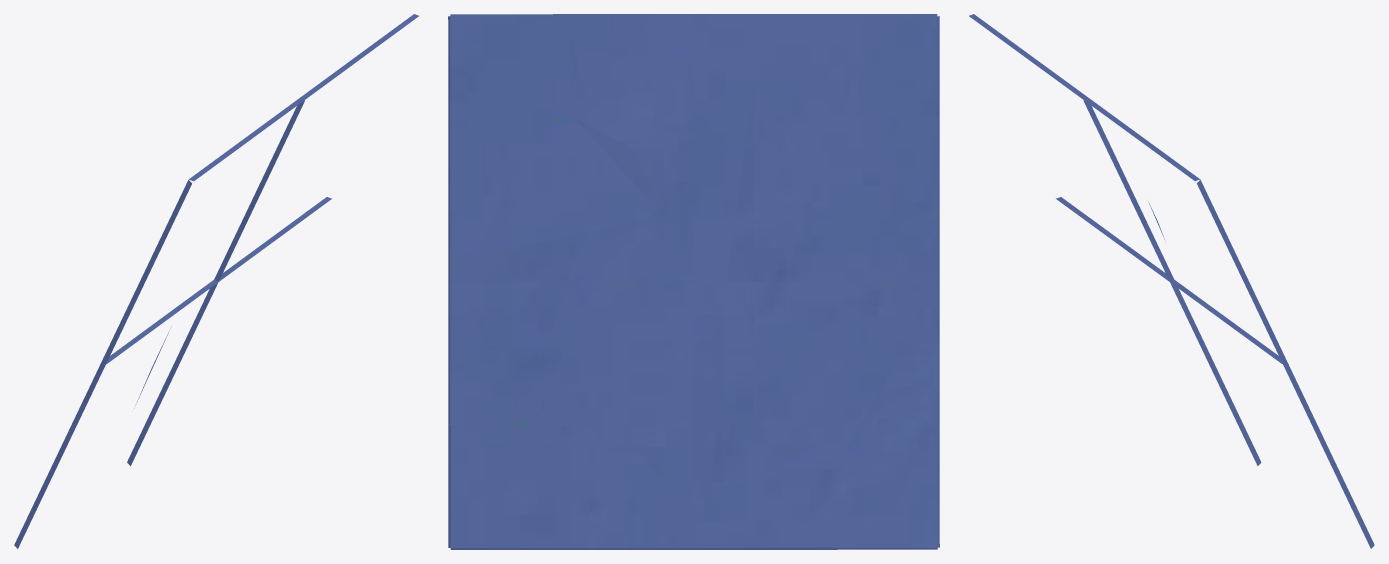
3 views of the same model, side by side, from view 1: azimuth 30°, elevation 25°; view 2: azimuth 150°, elevation 25°; view 3: azimuth 270°, elevation 25° (orthographic). The views are drawn at different scales.
Size of the model in its own units: 39443 by 36111 by 32280.
1 material, 1 textured.
